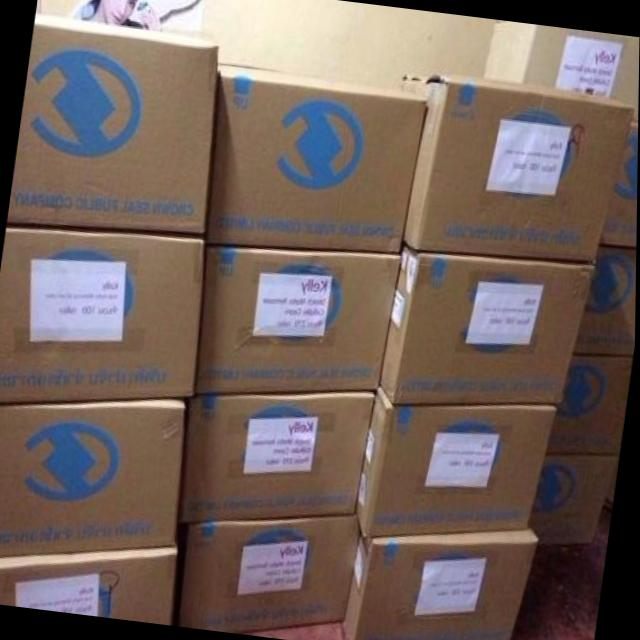box: (8, 13, 218, 234), (206, 55, 428, 254), (398, 75, 633, 261), (0, 224, 203, 403), (379, 242, 593, 404), (195, 244, 400, 394), (356, 382, 556, 535), (0, 396, 185, 559), (185, 391, 376, 522), (343, 525, 538, 640), (180, 514, 361, 633), (0, 539, 179, 625), (483, 22, 640, 113), (547, 355, 634, 454), (530, 454, 618, 544), (573, 244, 637, 356), (599, 107, 639, 247)
